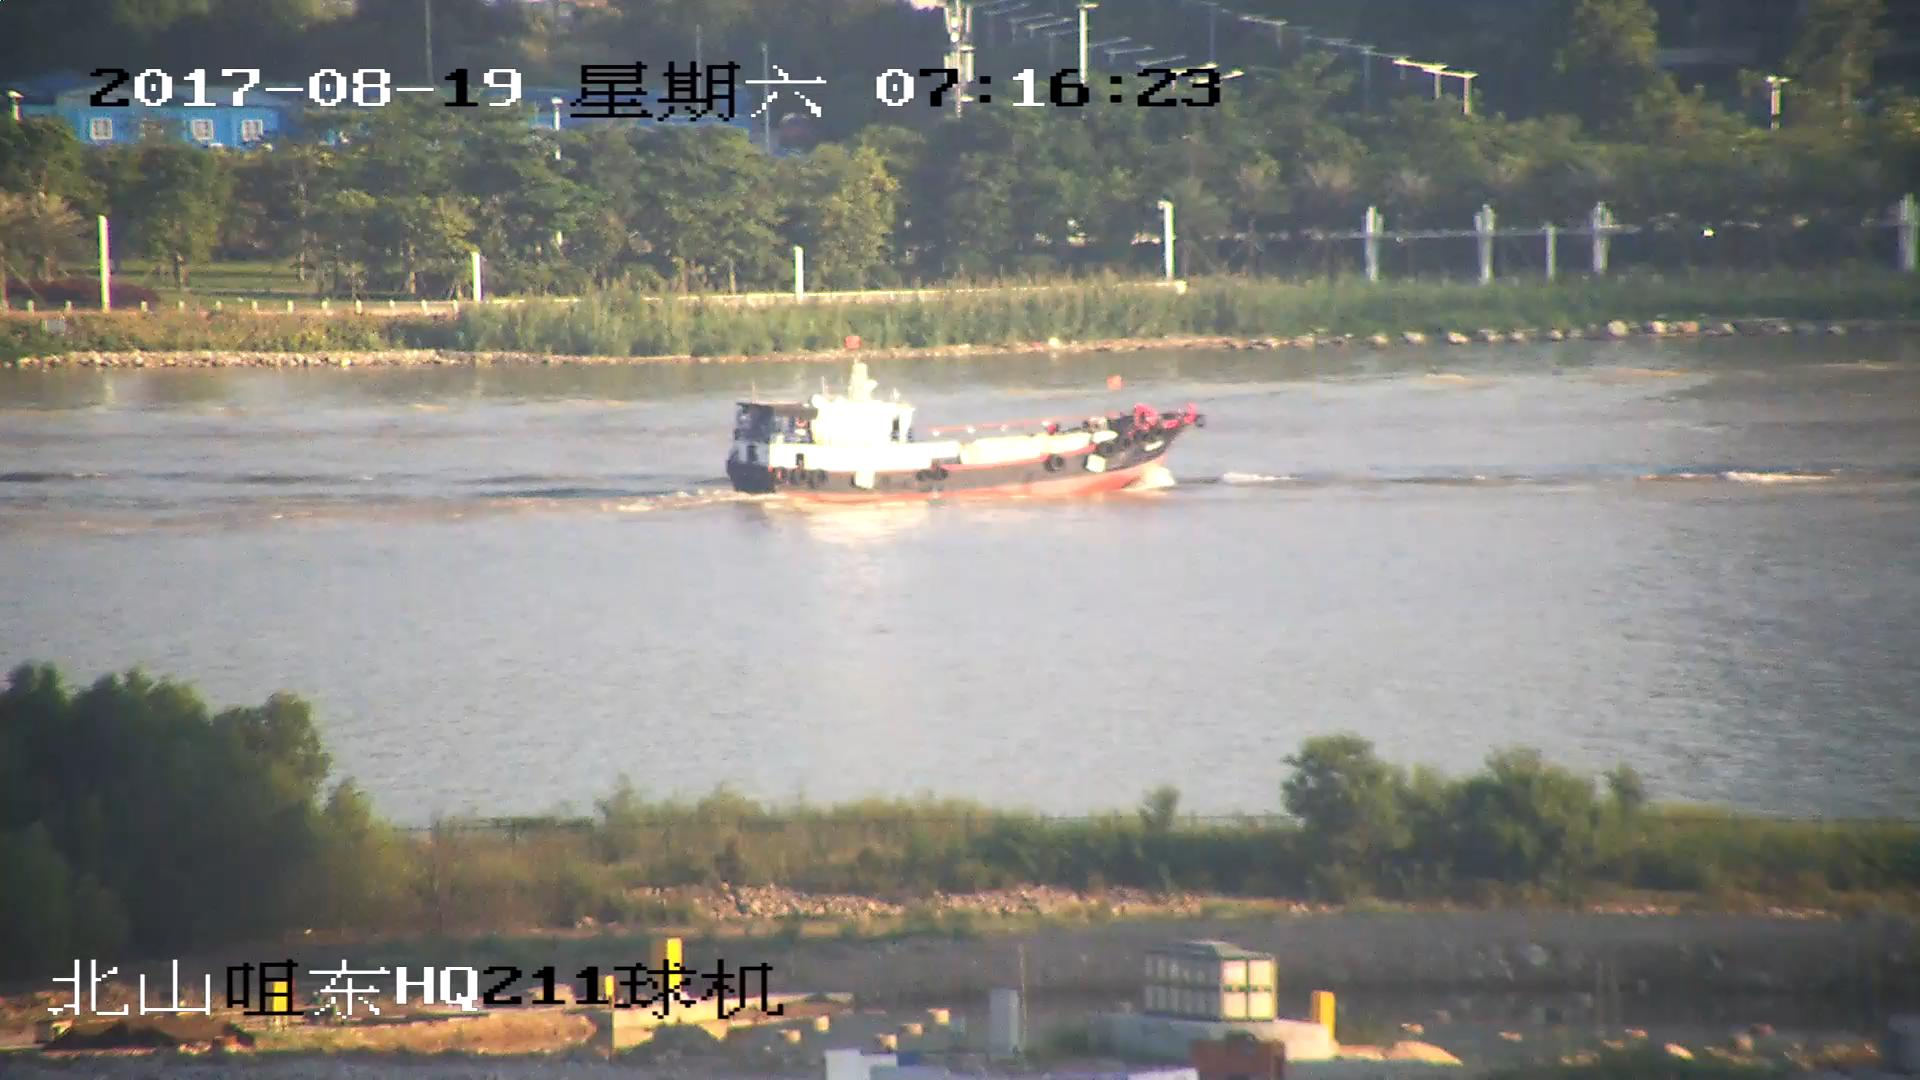fishing boat: (731, 356, 1205, 503)
